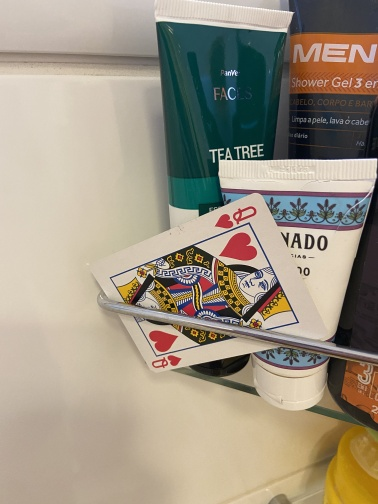queen: (88, 191, 327, 374)
